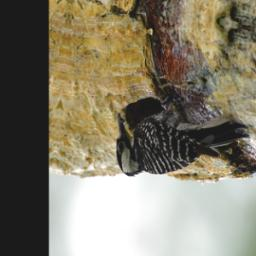Woodpecker: (111, 71, 255, 204)
